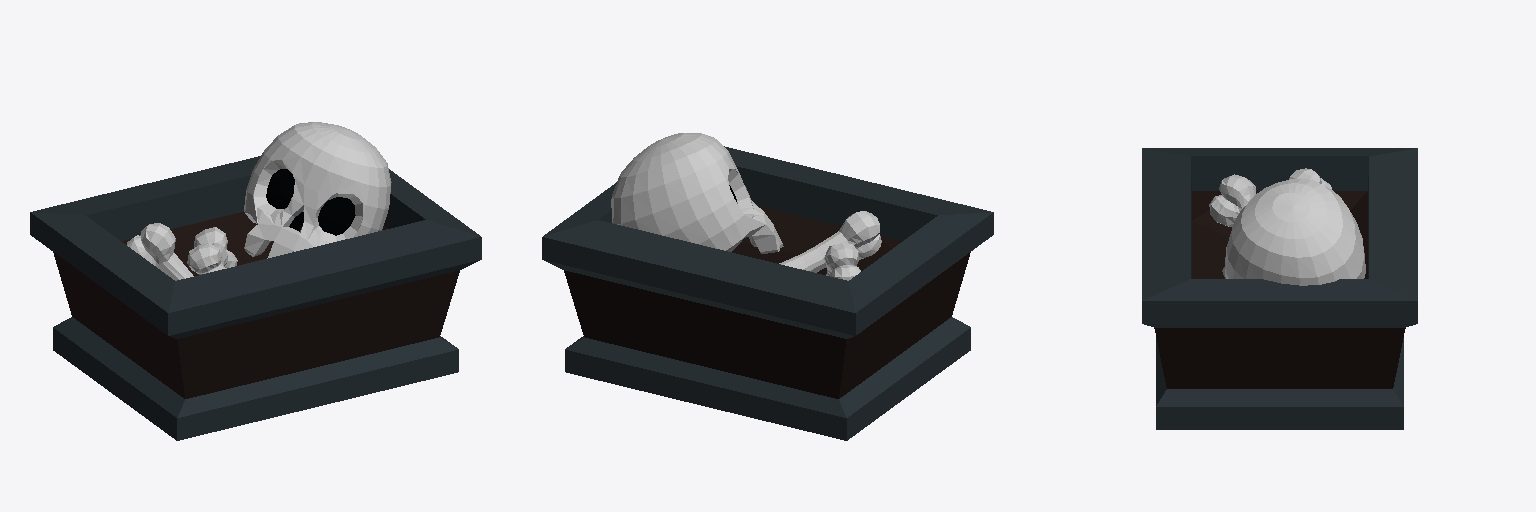
The model's file is chest_common_empty.obj.
The picture shows the model from 3 angles: view 1: azimuth 30°, elevation 25°; view 2: azimuth 150°, elevation 25°; view 3: azimuth 270°, elevation 25°; orthographic projection.
Parts seen in each view (by area): view 1: chest_common_empty_Cube.2488; view 2: chest_common_empty_Cube.2488; view 3: chest_common_empty_Cube.2488.
Part boxes in pixels (bbox=[...]): chest_common_empty_Cube.2488: bbox=[30, 122, 481, 440]; chest_common_empty_Cube.2488: bbox=[542, 133, 993, 440]; chest_common_empty_Cube.2488: bbox=[1142, 148, 1417, 429].
Size of the model in its own units: 1.44 by 0.9233 by 1.1.